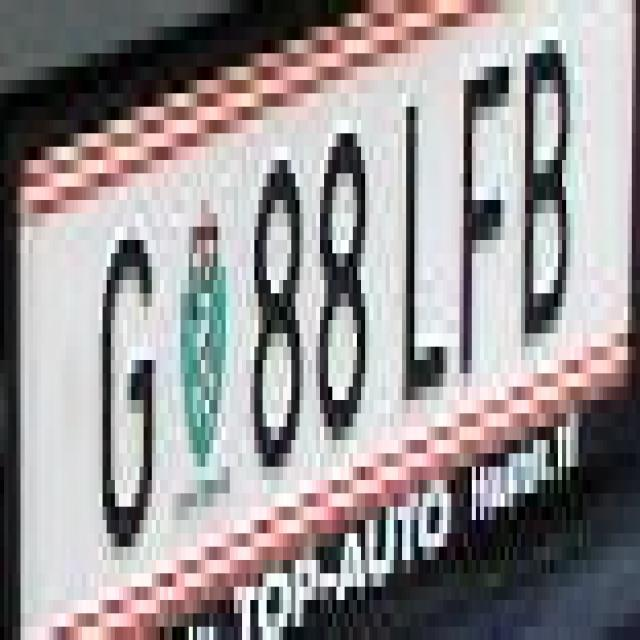8: (242, 173, 304, 480), (320, 120, 369, 440)
B: (512, 26, 574, 346)
F: (456, 66, 508, 386)
G: (86, 214, 164, 574)
L: (390, 93, 448, 400)
